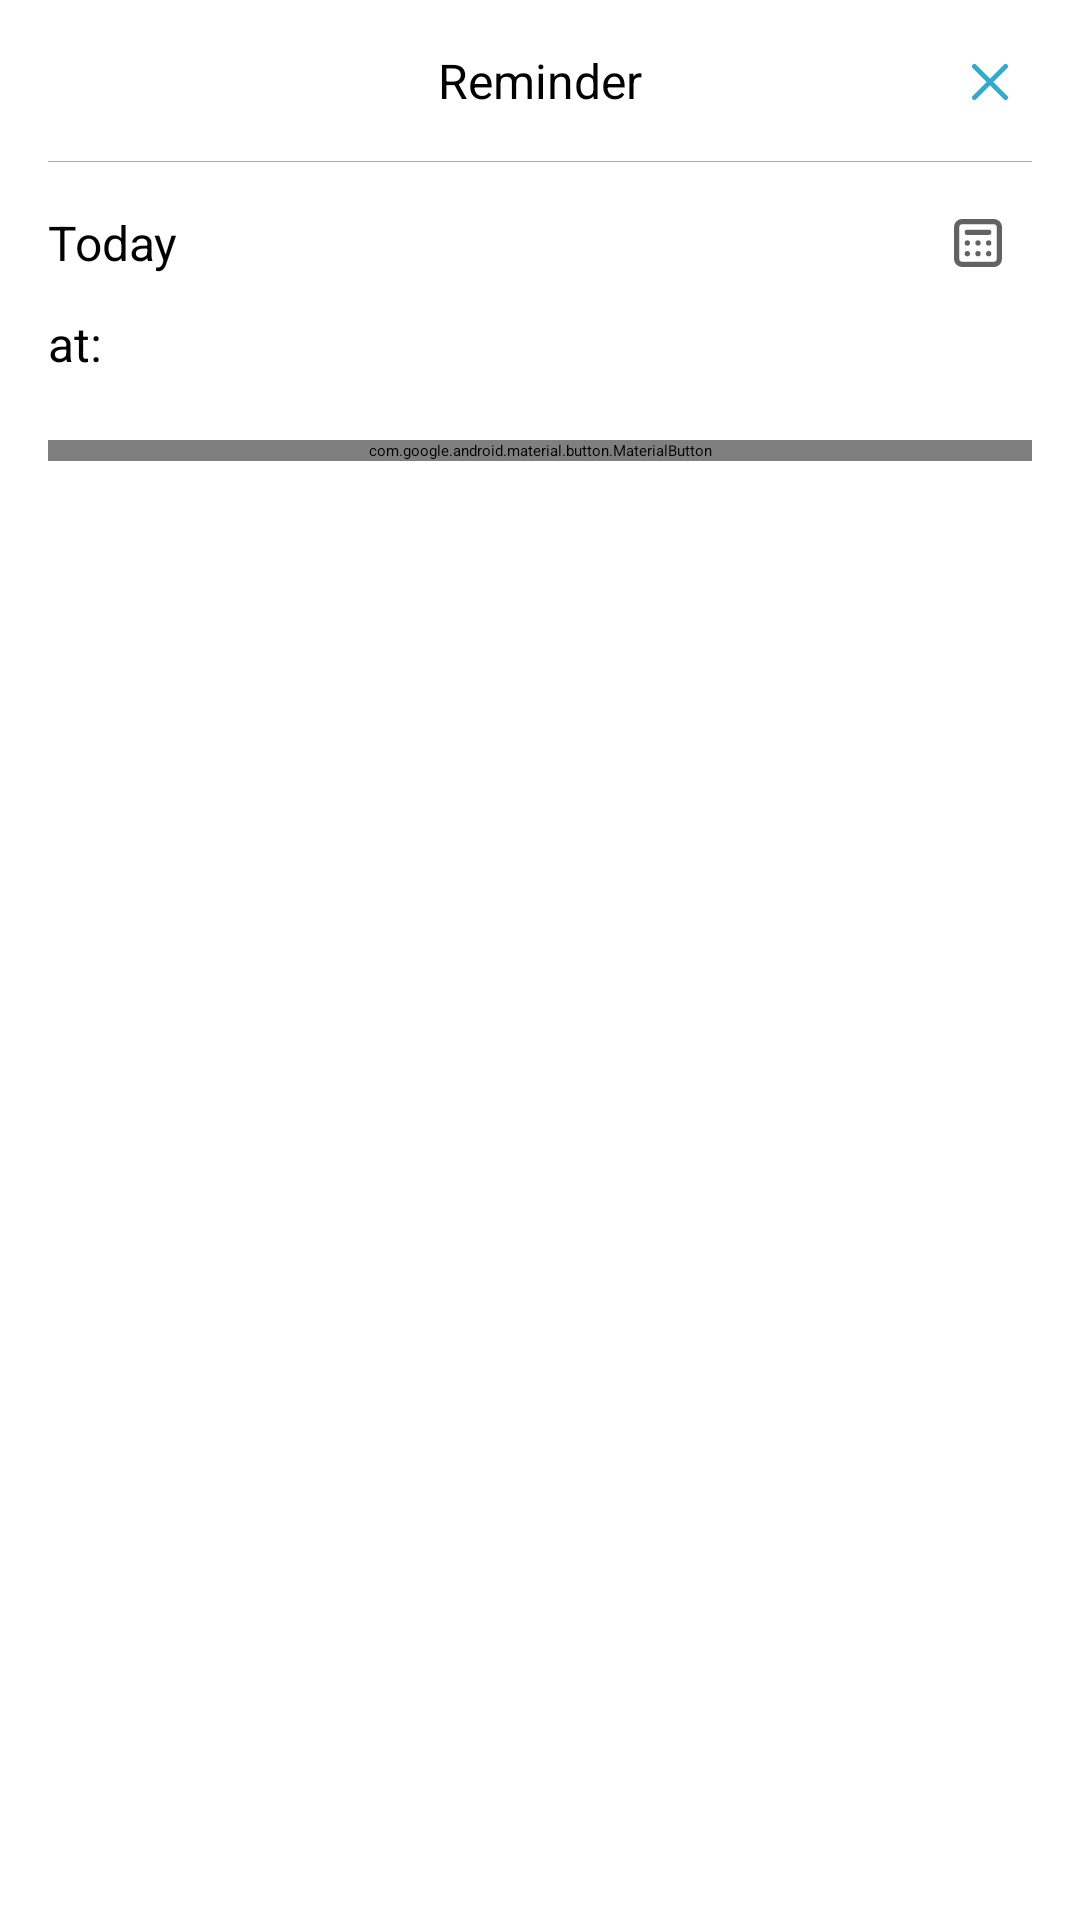

Icon click points for this 1080x1920 phone screenshot, format [x,y]:
calendar: [978,243]
close: [990,82]
